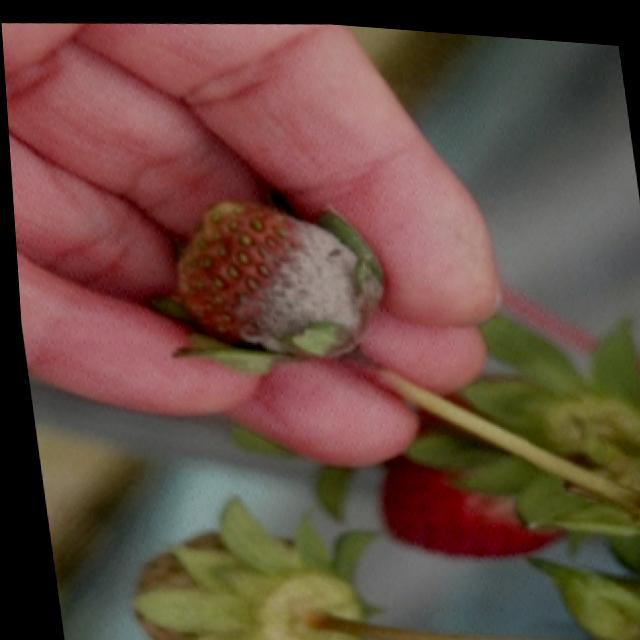Gray Mold: (170, 197, 379, 351)
